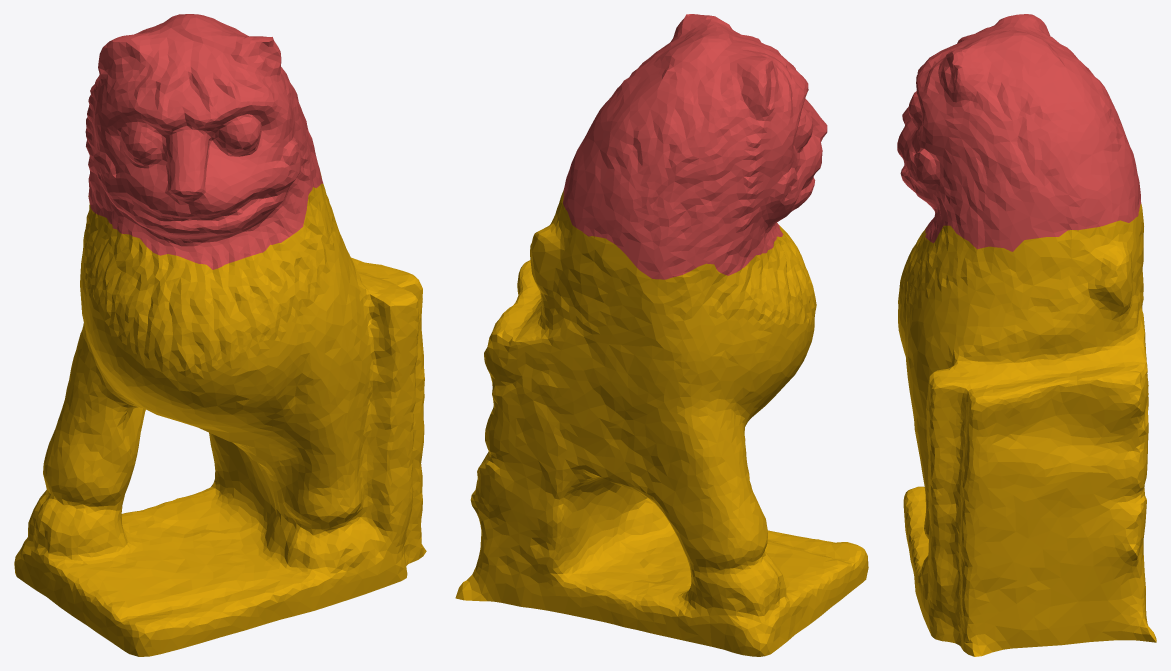
Rendered from fractured_39_2pcs.glb.
The picture shows the model from 3 angles, left to right: view 1: azimuth 30°, elevation 25°; view 2: azimuth 150°, elevation 25°; view 3: azimuth 270°, elevation 25°; orthographic projection. The views are drawn at different scales.
Parts seen in each view (by area): view 1: piece_0.obj, piece_1.obj; view 2: piece_0.obj, piece_1.obj; view 3: piece_0.obj, piece_1.obj.
Boxes of the visible parts, x1,y1,x2,y2 form: piece_0.obj: [14, 172, 426, 656]; piece_1.obj: [85, 14, 323, 269]; piece_0.obj: [455, 189, 868, 656]; piece_1.obj: [563, 14, 827, 279]; piece_0.obj: [898, 204, 1156, 656]; piece_1.obj: [897, 14, 1141, 251].
Bounding box in the file's own units: 0.6128 × 1 × 0.4453.
